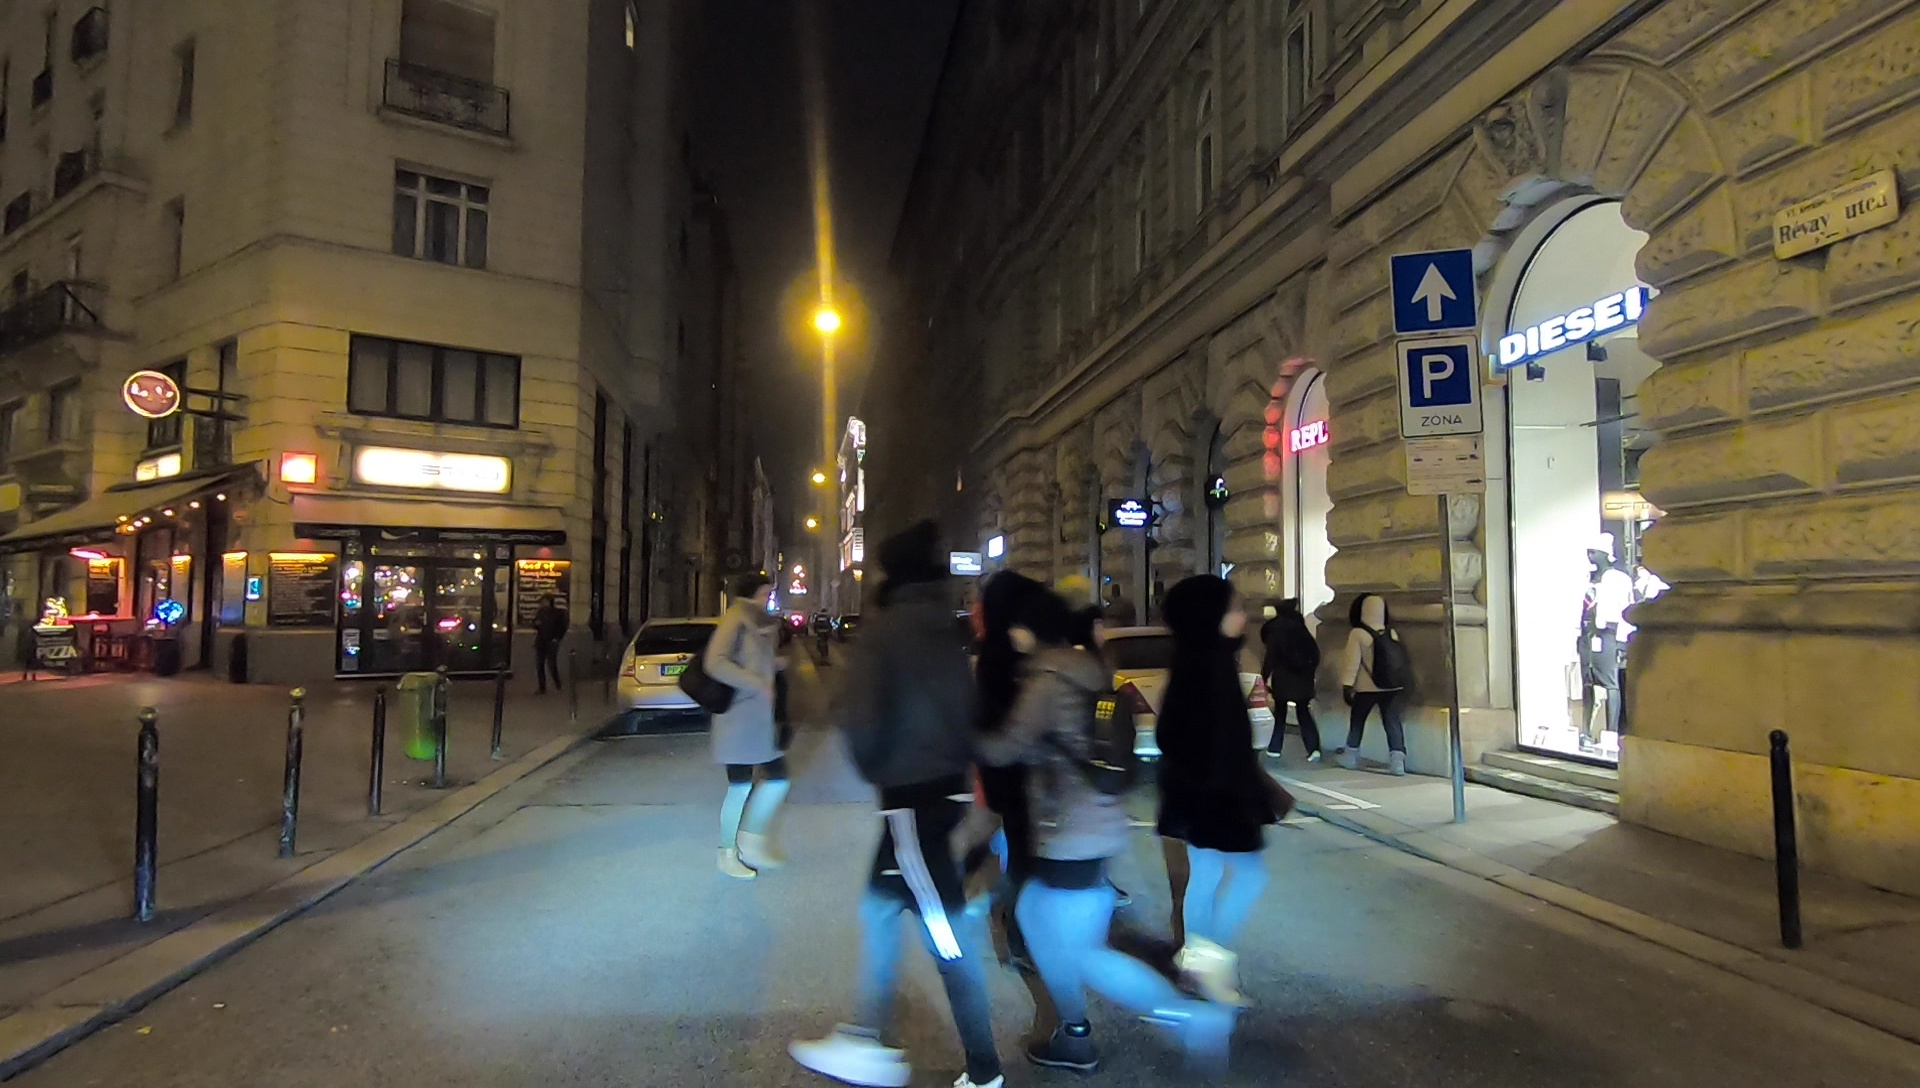person: (814, 526, 1006, 1088), (997, 600, 1201, 1088), (1141, 554, 1286, 1017), (712, 582, 799, 876), (1338, 589, 1414, 778), (1260, 599, 1325, 773), (532, 589, 564, 700)
